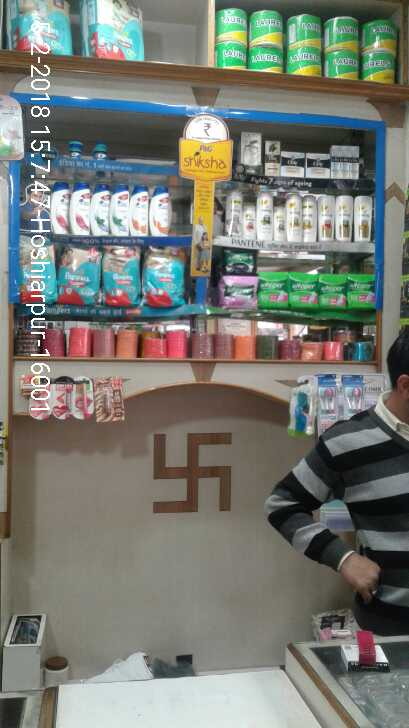vicks: (49, 138, 117, 163)
